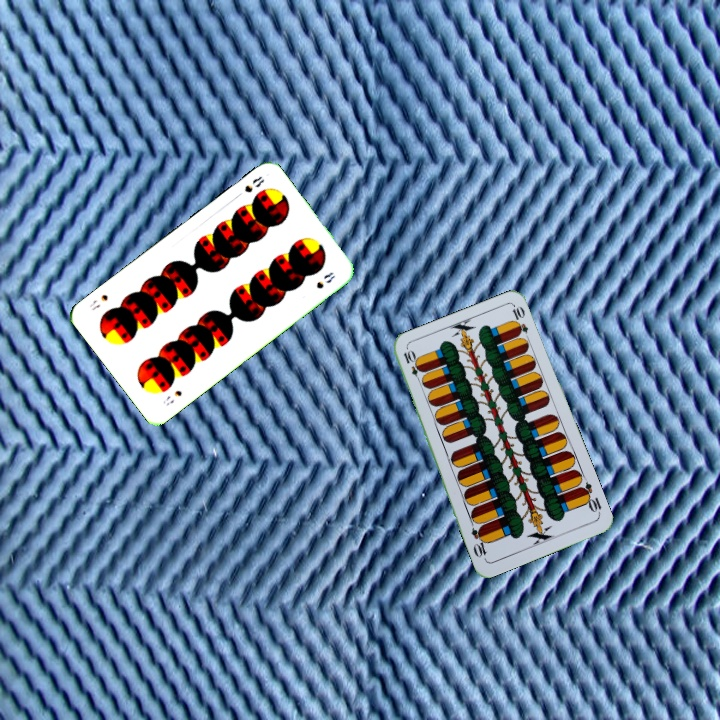E10: (576, 478, 604, 517), (399, 346, 425, 386)
S8: (240, 172, 267, 195), (159, 386, 185, 408)
